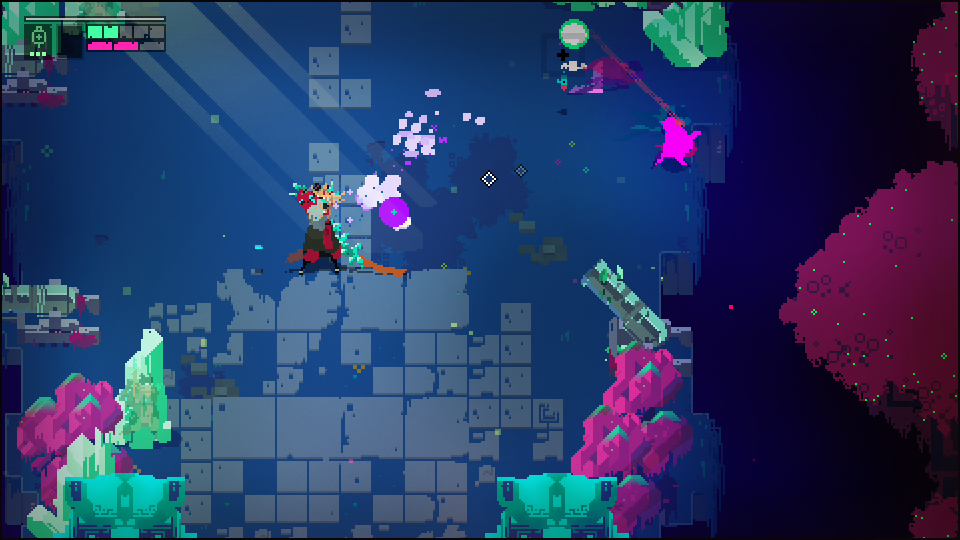hanged_man: (286, 181, 359, 268)
hanged_shot: (560, 18, 590, 54), (379, 197, 410, 228)
player: (657, 110, 693, 169)
